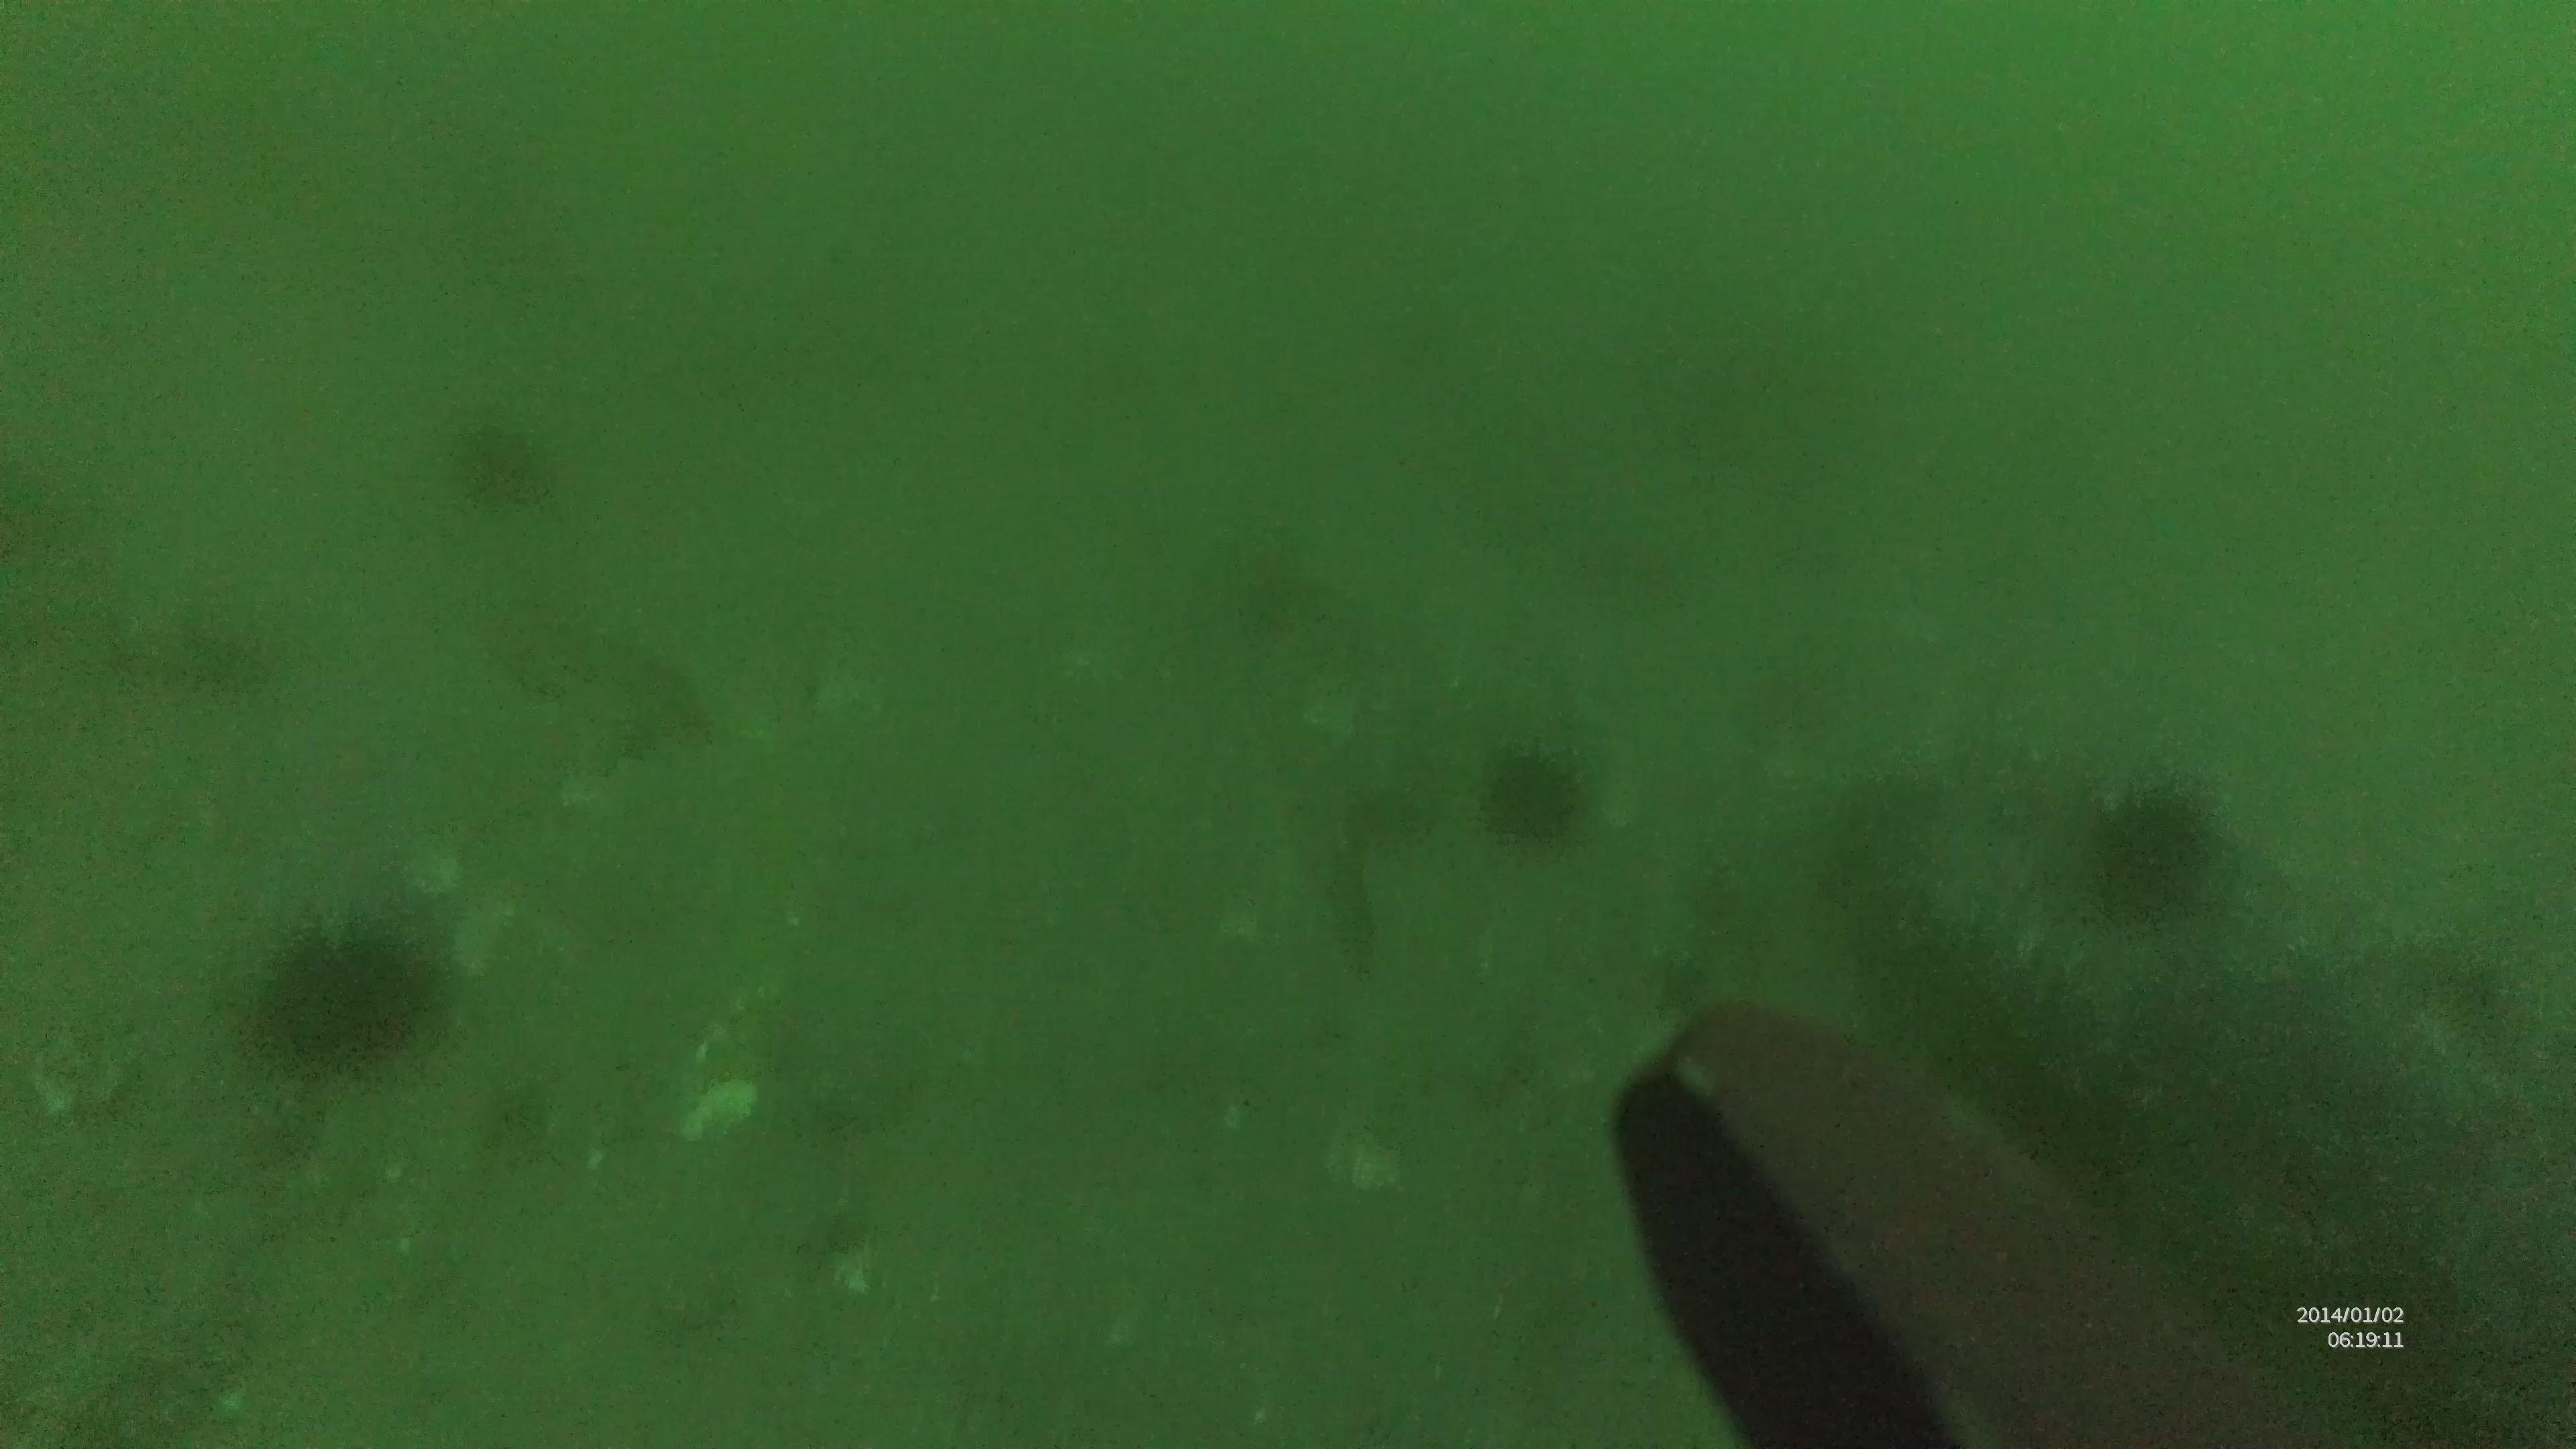echinus: (244, 915, 428, 1065), (2086, 777, 2215, 932), (1481, 743, 1591, 858)
